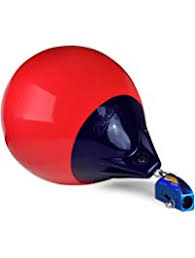buoy: (1, 45, 143, 184)
